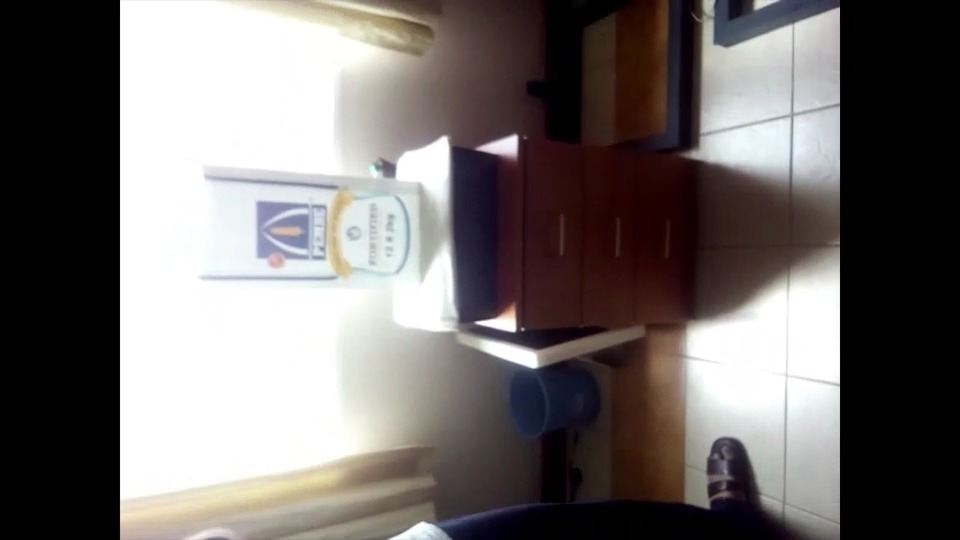wheat_flour_blue_label: (191, 158, 420, 285)
